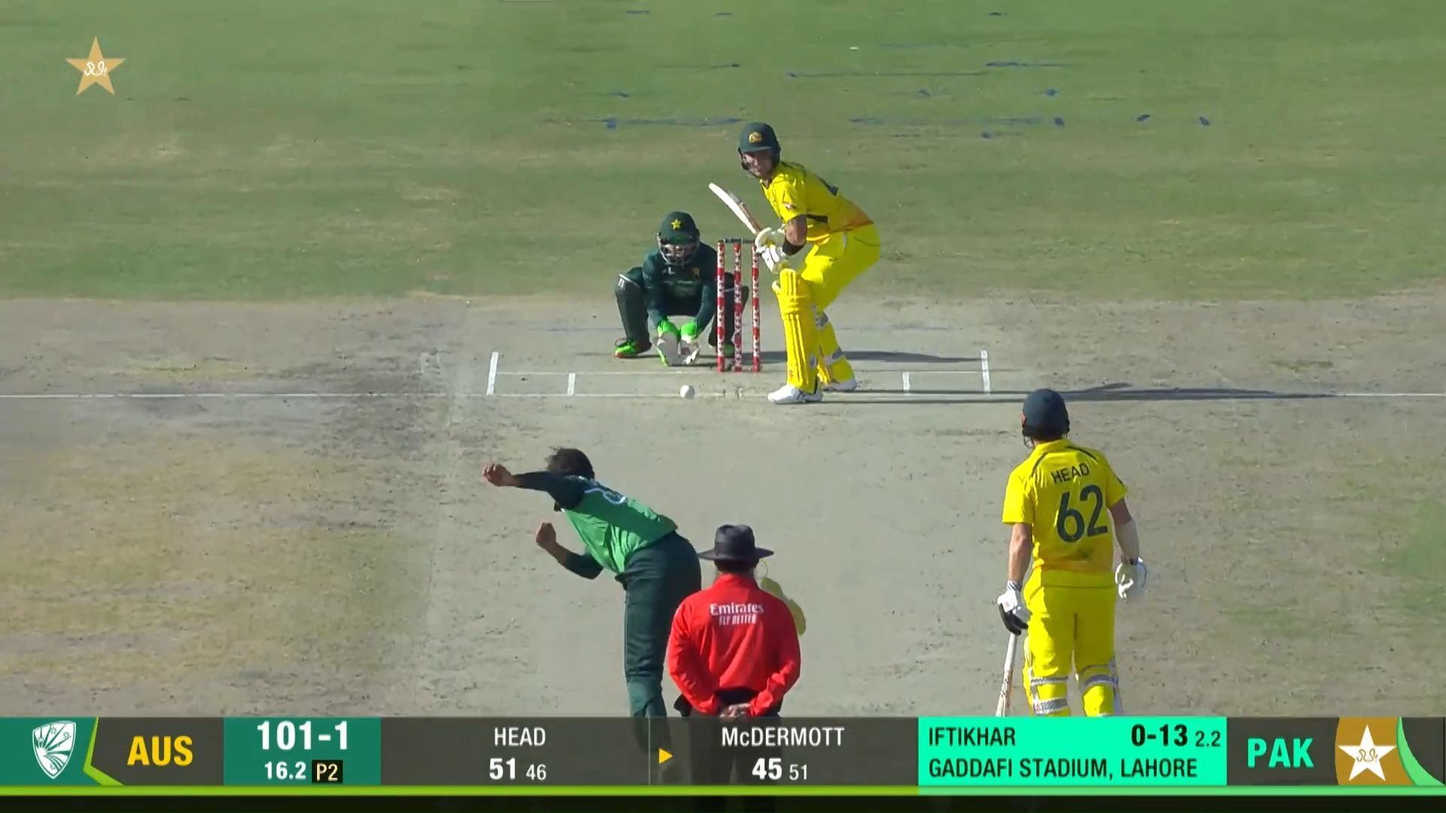BM 1: (706, 121, 881, 406)
BO: (482, 444, 702, 716)
